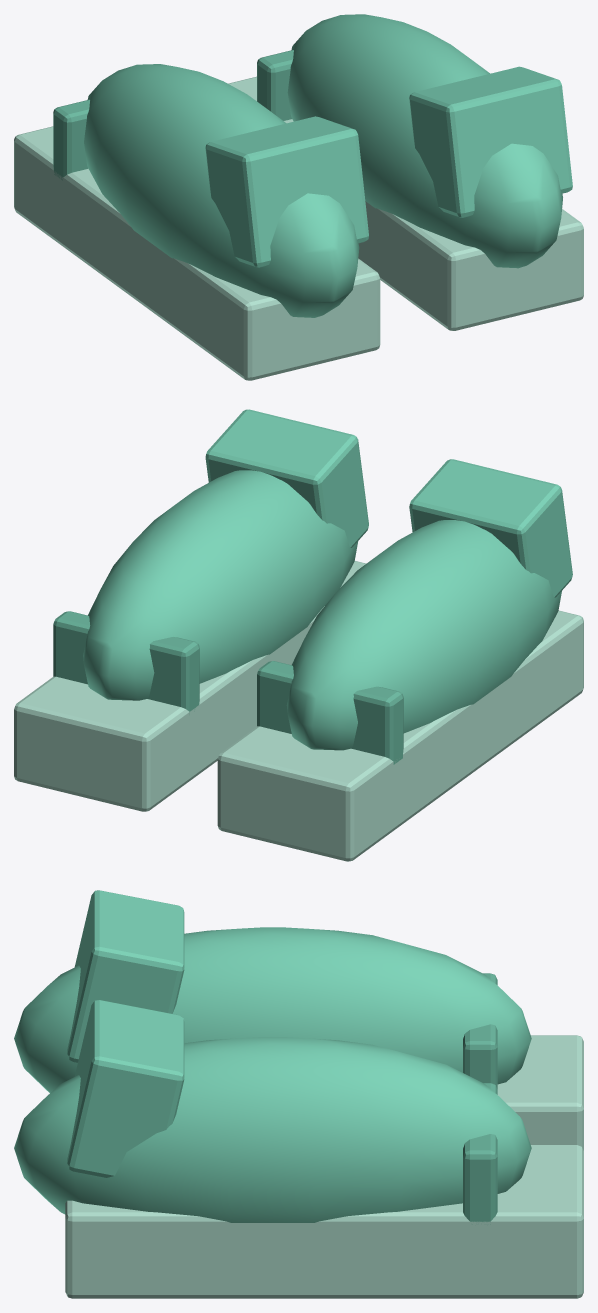
The model's file is VM-CAL-8811.glb.
3 views of the same model, one above another, from view 1: azimuth 30°, elevation 25°; view 2: azimuth 150°, elevation 25°; view 3: azimuth 270°, elevation 25° (orthographic). The views are drawn at different scales.
Visible parts, largest first — view 1: Stiletto Vernice Noir 95mm; view 2: Stiletto Vernice Noir 95mm; view 3: Stiletto Vernice Noir 95mm.
Boxes of the visible parts, left/top/right/bottom form: Stiletto Vernice Noir 95mm: left=14, top=14, right=583, bottom=380; Stiletto Vernice Noir 95mm: left=14, top=409, right=583, bottom=861; Stiletto Vernice Noir 95mm: left=14, top=890, right=583, bottom=1298.
Size of the model in its own units: 0.2559 by 0.1496 by 0.3265.
